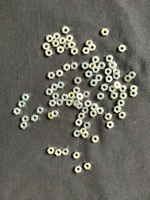nut: (62, 26, 70, 34), (101, 28, 109, 36), (119, 45, 127, 53), (46, 35, 54, 43), (45, 49, 53, 57), (92, 56, 100, 64), (106, 55, 114, 63), (125, 75, 133, 83), (101, 84, 109, 92), (109, 85, 117, 93), (97, 93, 105, 101), (73, 100, 81, 108), (105, 113, 113, 121), (75, 119, 83, 127), (92, 136, 100, 144), (47, 147, 55, 155), (53, 33, 61, 40), (59, 37, 67, 44), (66, 35, 74, 42), (52, 40, 60, 47), (57, 46, 64, 54), (82, 47, 90, 54), (48, 72, 55, 80), (71, 62, 78, 70), (82, 62, 89, 70), (109, 61, 116, 69), (98, 62, 106, 69), (89, 63, 97, 70), (129, 72, 137, 79), (95, 75, 103, 82), (75, 77, 82, 85), (57, 82, 65, 89), (119, 86, 127, 93), (130, 85, 138, 92), (120, 93, 128, 100), (111, 92, 118, 100), (114, 106, 121, 114), (119, 112, 127, 119), (83, 91, 91, 98), (52, 93, 60, 100), (18, 101, 26, 108), (13, 108, 21, 115), (37, 107, 44, 115), (61, 94, 69, 101), (68, 92, 75, 100), (66, 99, 73, 107), (91, 104, 98, 112), (80, 128, 87, 136), (74, 130, 81, 138), (55, 149, 62, 157), (62, 148, 69, 156), (73, 152, 80, 160), (75, 166, 82, 174), (84, 163, 92, 170), (43, 43, 50, 50), (64, 43, 71, 50), (71, 48, 78, 55), (86, 40, 93, 47), (89, 44, 96, 51), (56, 70, 63, 77), (111, 63, 118, 70), (93, 66, 100, 73), (105, 68, 112, 75), (106, 76, 113, 83), (86, 71, 93, 78), (91, 80, 98, 87), (51, 84, 58, 91), (46, 89, 53, 96), (114, 82, 121, 89), (118, 100, 125, 107), (73, 87, 80, 94), (22, 94, 29, 101), (31, 115, 38, 122), (22, 116, 29, 123), (21, 122, 28, 129), (49, 100, 56, 107), (56, 99, 63, 106), (48, 112, 55, 119), (52, 111, 59, 118), (77, 93, 84, 100), (76, 103, 83, 110), (85, 101, 92, 108), (82, 107, 89, 114), (97, 108, 104, 115), (107, 122, 114, 129), (78, 113, 85, 120), (84, 122, 91, 129), (82, 132, 89, 139), (64, 64, 70, 72), (113, 69, 121, 75), (113, 74, 121, 80), (130, 91, 138, 97), (69, 42, 76, 48), (73, 97, 79, 104), (91, 111, 97, 118), (92, 104, 99, 109)
